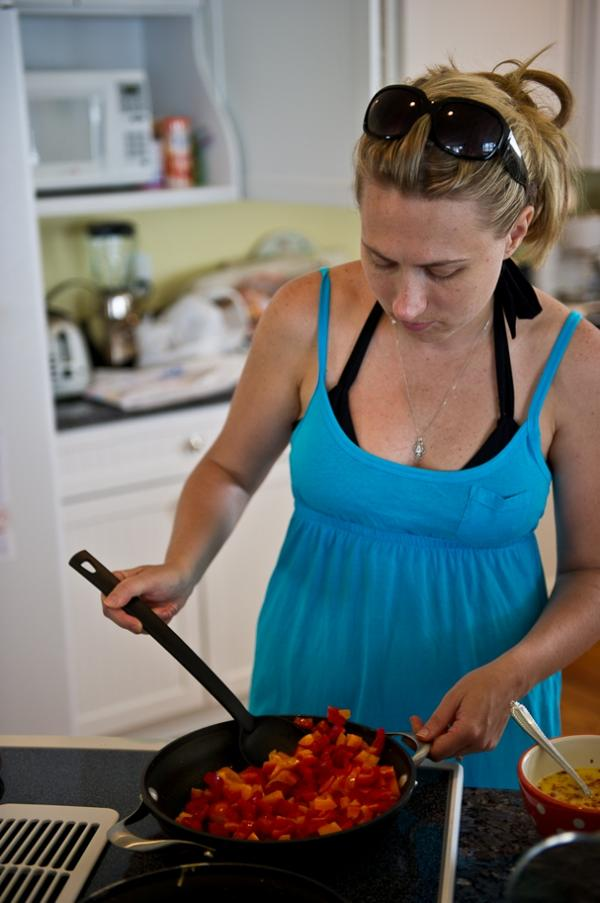person: (105, 67, 600, 791)
